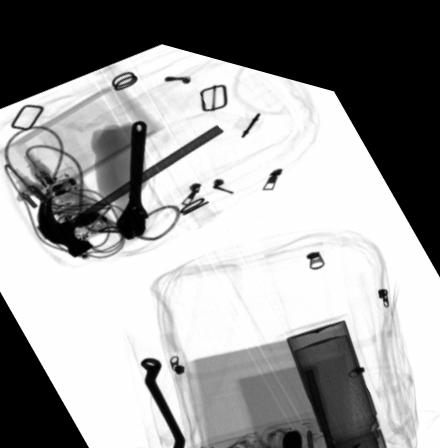Hammer: (37, 112, 223, 252), (302, 344, 357, 448)
Wrench: (140, 348, 188, 448), (115, 110, 149, 233)
